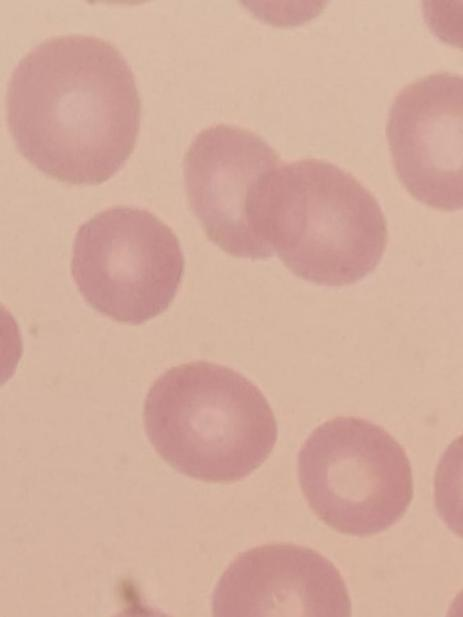Uninfected: (8, 31, 141, 186), (254, 159, 387, 284), (142, 360, 277, 483), (294, 416, 416, 536), (69, 206, 185, 323), (183, 126, 281, 251), (387, 74, 462, 205)
